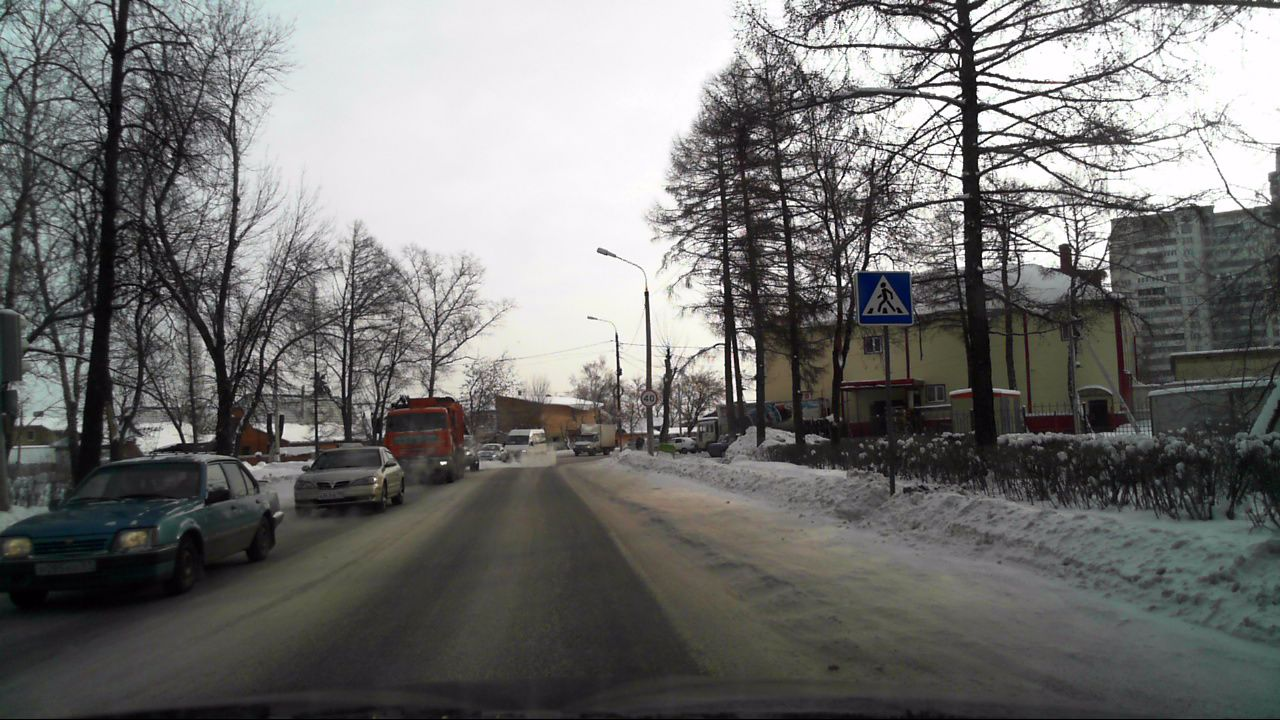speed_warning_40: (640, 390, 658, 406)
